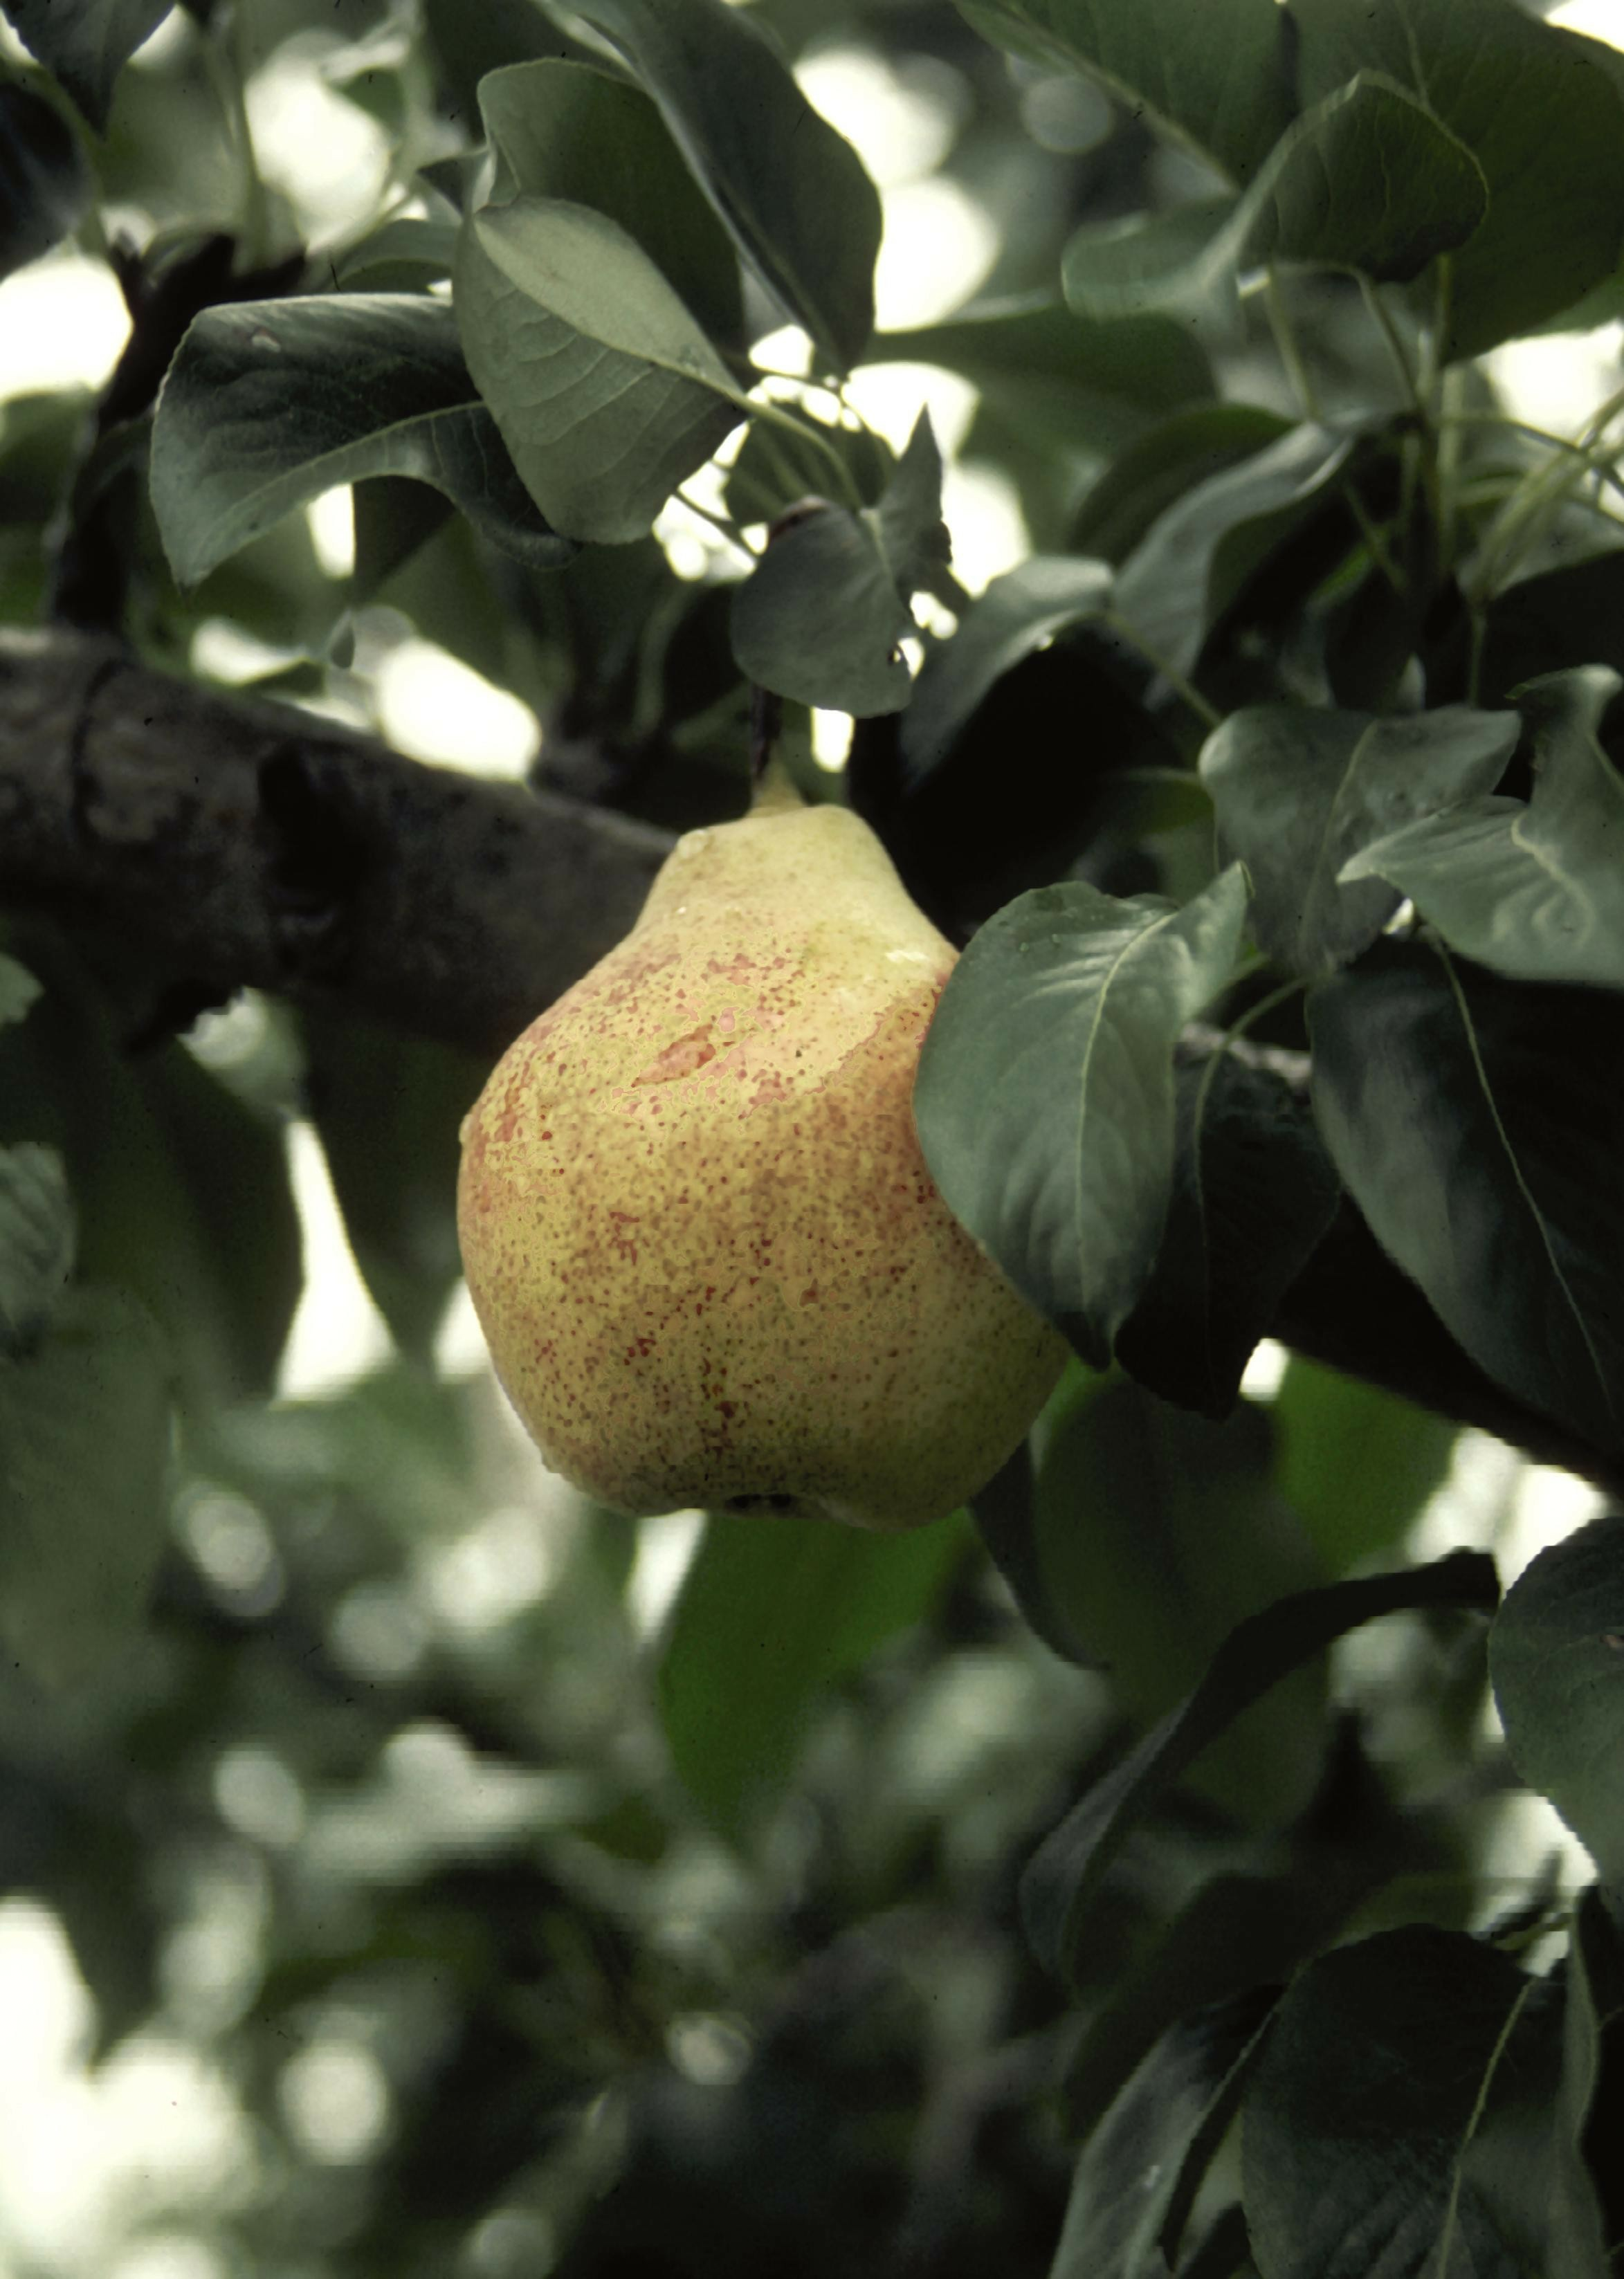pear: (459, 805, 1069, 1537)
